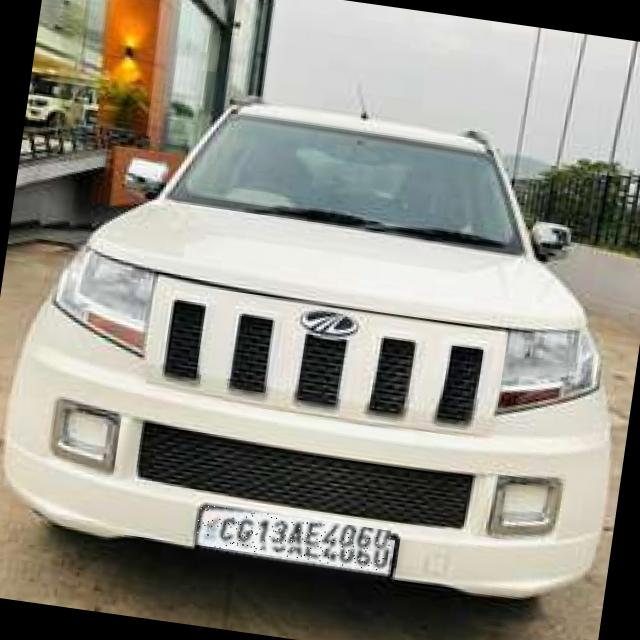Plate: (196, 506, 393, 573)
